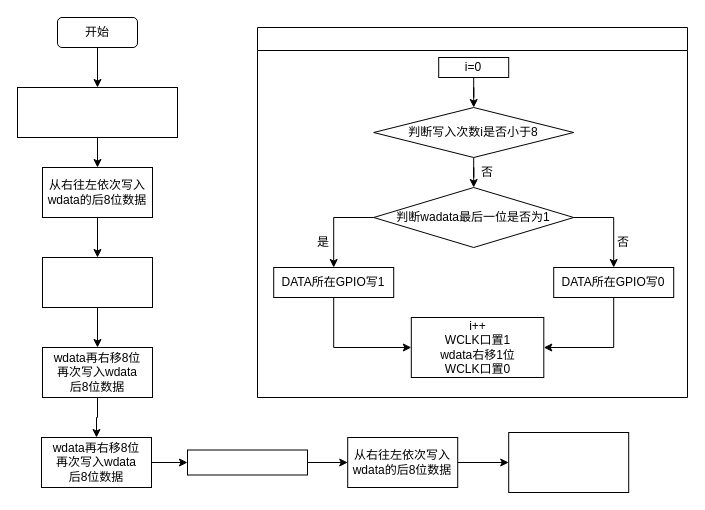
The diagram is 705 pixels wide and 510 high, and some of its shapes have lost their labels. Here are the shapes that lost their labels. From the top down, the box of each, then its label:
(16, 86, 178, 138): 根据时钟频率和波形频率计算写入频率wdata
(256, 26, 688, 398): 写入8位数据（串行输入）
(42, 256, 152, 308): wdata右移8位 再次写入wdata 后8位数据
(186, 449, 308, 475): wdata=相位W0=0
(508, 432, 629, 492): FQUD口置1 延时0xFF FQUD口置0
